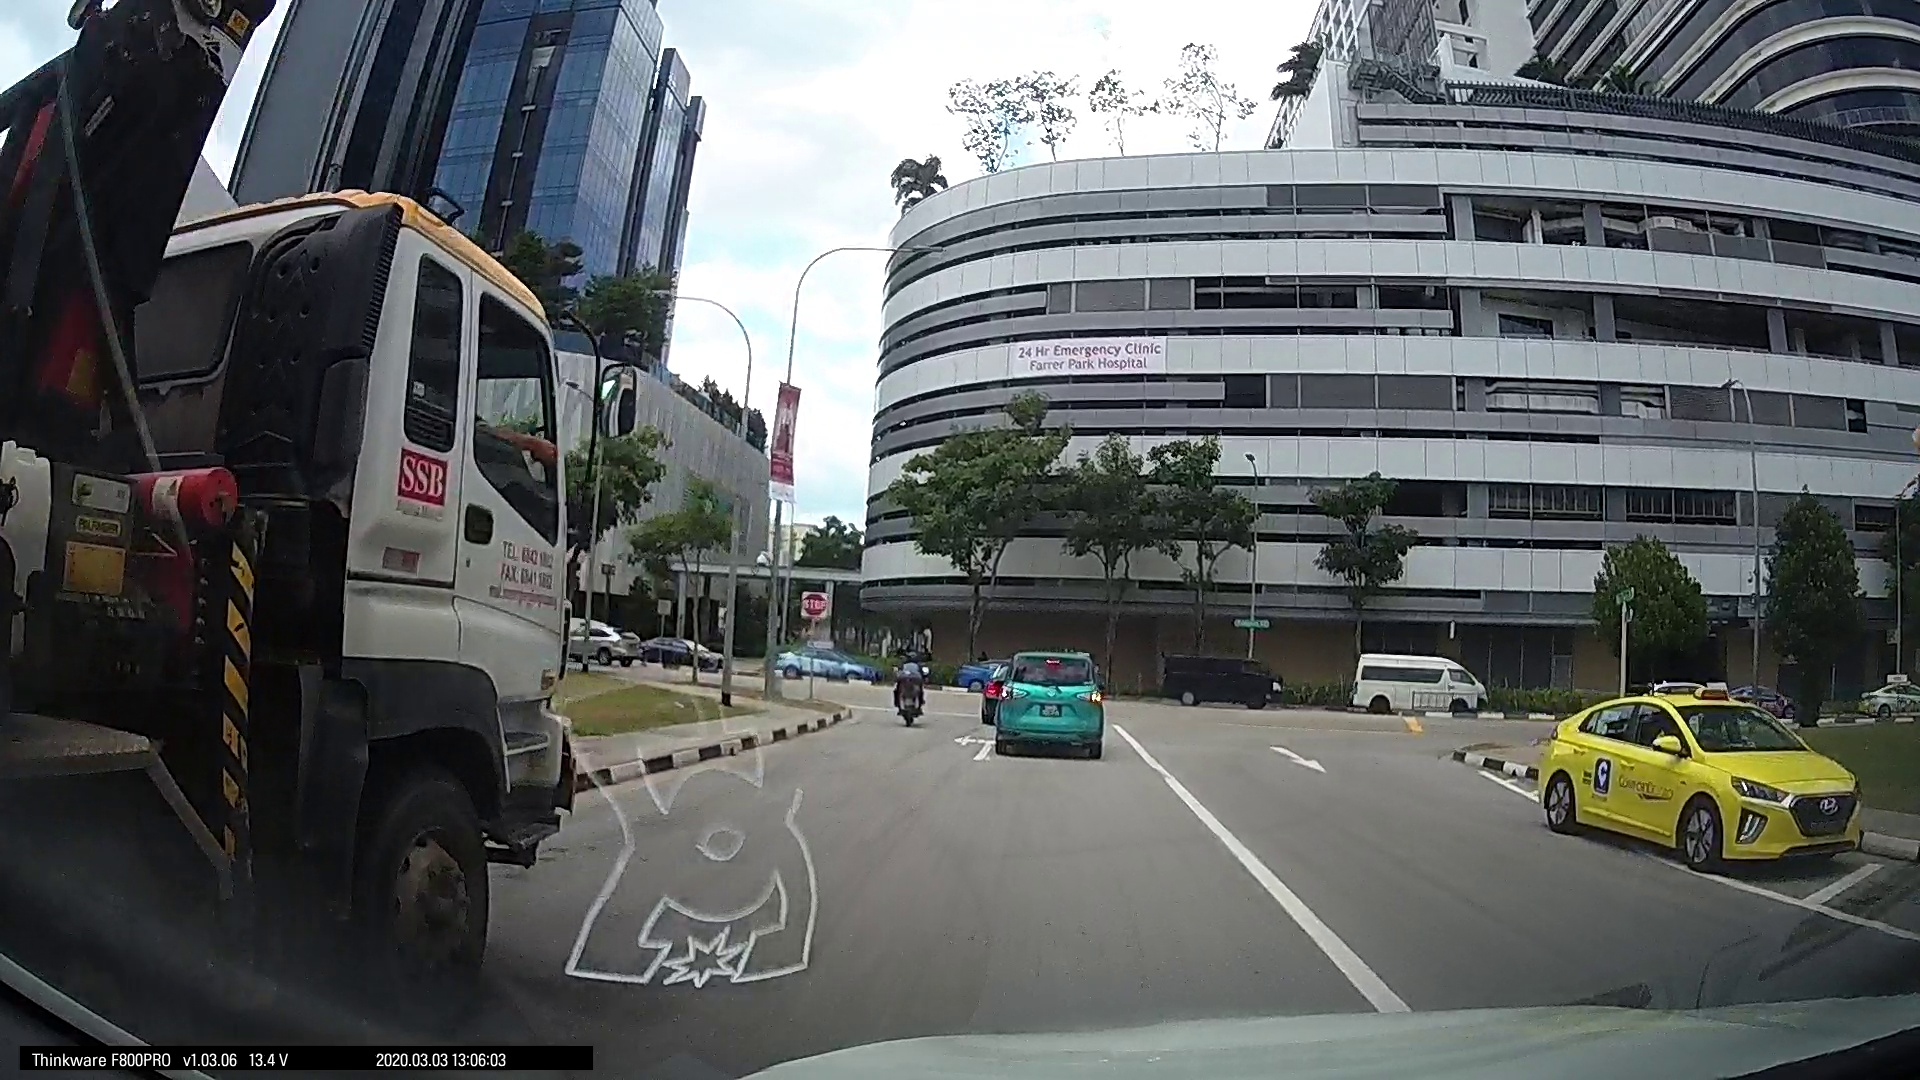Heavy Vehicle: (24, 142, 587, 985)
Light Vehicle: (1528, 680, 1873, 880), (985, 647, 1106, 756), (1338, 647, 1495, 716), (1155, 646, 1280, 705), (775, 640, 869, 686)
Motorcycle: (887, 644, 928, 723)
